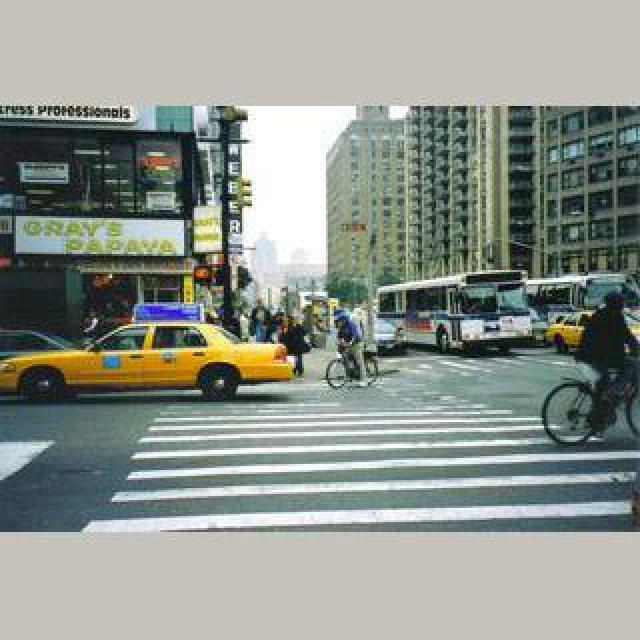Bolan-Bike: (376, 272, 534, 356), (524, 274, 636, 320)
Bus-Bike: (0, 322, 296, 400), (546, 310, 588, 352), (374, 318, 402, 354)
MC-Bike: (572, 292, 638, 432), (334, 308, 366, 382), (282, 316, 312, 378), (250, 296, 270, 342)
Person: (542, 364, 640, 446), (326, 346, 378, 390)
